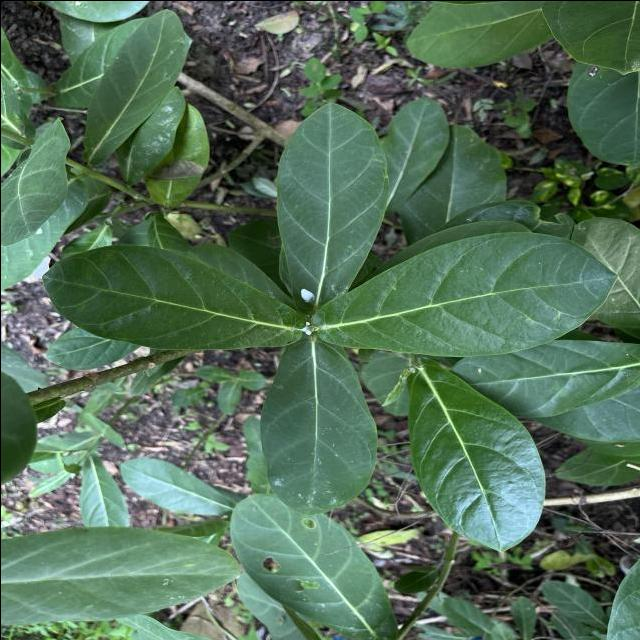Calotropis gigantea: (309, 228, 620, 358), (39, 242, 307, 352), (402, 358, 548, 552), (228, 490, 399, 640), (274, 100, 391, 312), (257, 337, 379, 517), (446, 338, 640, 419)
